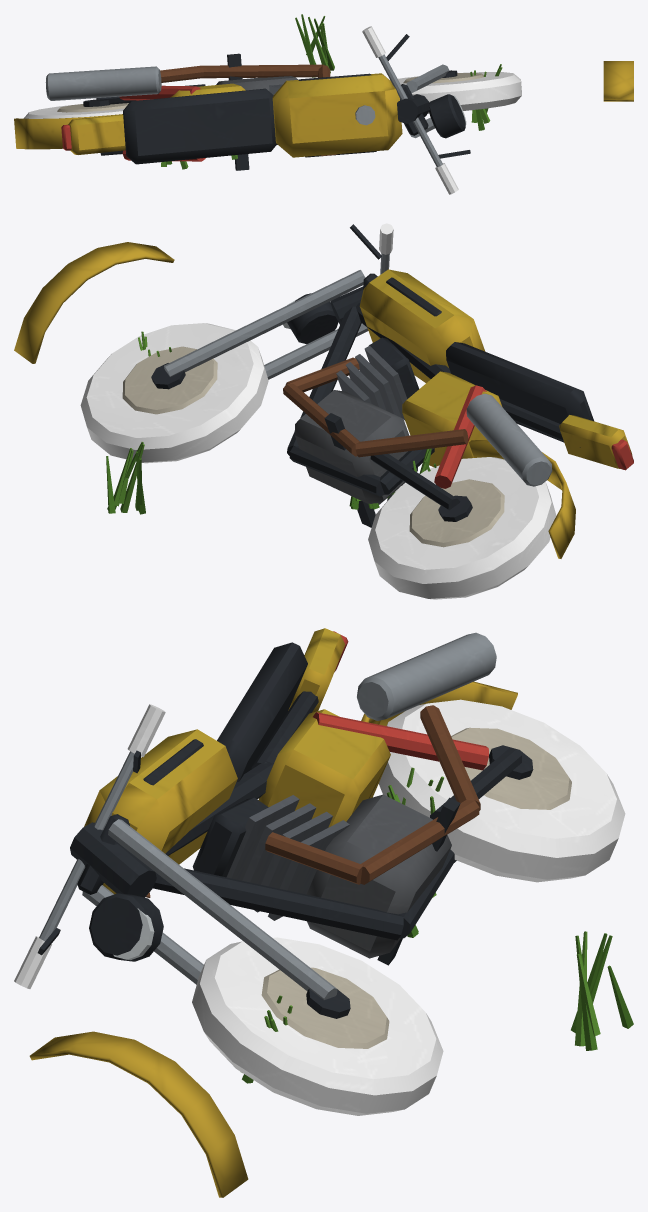
The model's file is motorbike_wreck.glb.
The picture shows the model from 3 angles, top to bottom: view 1: azimuth 30°, elevation 25°; view 2: azimuth 150°, elevation 25°; view 3: azimuth 270°, elevation 25°; orthographic projection. The views are drawn at different scales.
Parts seen in each view (by area): view 1: motorbike_wreck; view 2: motorbike_wreck; view 3: motorbike_wreck.
Part boxes in pixels (x1=…): motorbike_wreck: x1=14, y1=14, x2=633, y2=194; motorbike_wreck: x1=14, y1=223, x2=633, y2=599; motorbike_wreck: x1=14, y1=628, x2=633, y2=1197.
Bounding box in the file's own units: 2.47 × 0.7944 × 1.48.
Materials: 16 (16 with a texture image).
